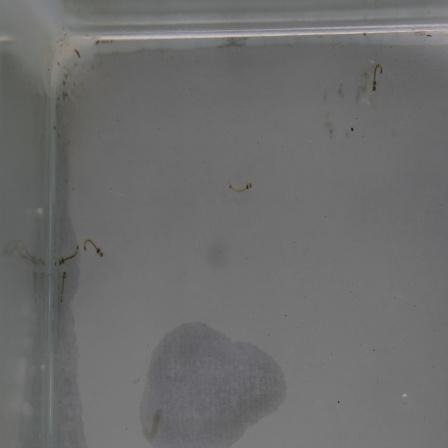Jentik-Nyamuk: (56, 239, 81, 304), (369, 59, 388, 99), (82, 235, 109, 261), (225, 179, 256, 197)
